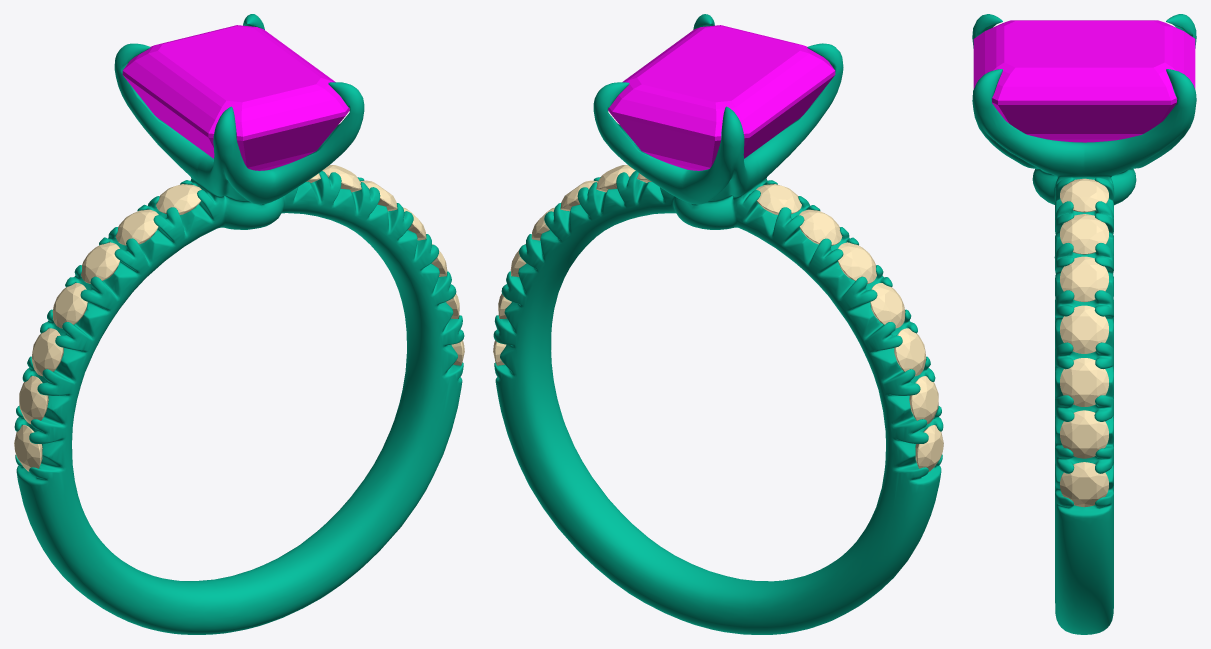
Rendered from BE1D4259_EM_200ct_RENDER.glb.
3 views of the same model, side by side, from view 1: azimuth 30°, elevation 25°; view 2: azimuth 150°, elevation 25°; view 3: azimuth 270°, elevation 25° (orthographic).
Parts seen in each view (by area): view 1: Metal 01, CS_Diamond_Emerald, Diamond_Round_Gem_SH.001, Diamond_Round_Gem_SH.006, Diamond_Round_Gem_SH.005, Diamond_Round_Gem_SH.002, Diamond_Round_Gem_SH, Diamond_Round_Gem_SH.003, Diamond_Round_Gem_SH.004; view 2: Metal 01, CS_Diamond_Emerald, Diamond_Round_Gem_SH.001, Diamond_Round_Gem_SH.006, Diamond_Round_Gem_SH.005, Diamond_Round_Gem_SH.002, Diamond_Round_Gem_SH, Diamond_Round_Gem_SH.003, Diamond_Round_Gem_SH.004; view 3: Metal 01, CS_Diamond_Emerald, Diamond_Round_Gem_SH.011, Diamond_Round_Gem_SH.007, Diamond_Round_Gem_SH.010, Diamond_Round_Gem_SH.012, Diamond_Round_Gem_SH.009, Diamond_Round_Gem_SH.008, Diamond_Round_Gem_SH.013.
Part boxes in pixels (bbox=[...]): Metal 01: bbox=[14, 14, 464, 634]; CS_Diamond_Emerald: bbox=[122, 25, 349, 170]; Diamond_Round_Gem_SH.001: bbox=[81, 242, 119, 283]; Diamond_Round_Gem_SH.006: bbox=[52, 283, 87, 328]; Diamond_Round_Gem_SH.005: bbox=[115, 209, 158, 245]; Diamond_Round_Gem_SH.002: bbox=[31, 328, 63, 376]; Diamond_Round_Gem_SH: bbox=[156, 184, 201, 214]; Diamond_Round_Gem_SH.003: bbox=[19, 376, 48, 424]; Diamond_Round_Gem_SH.004: bbox=[14, 425, 42, 471]; Metal 01: bbox=[493, 14, 943, 634]; CS_Diamond_Emerald: bbox=[608, 25, 835, 170]; Diamond_Round_Gem_SH.001: bbox=[838, 242, 876, 283]; Diamond_Round_Gem_SH.006: bbox=[870, 283, 905, 328]; Diamond_Round_Gem_SH.005: bbox=[799, 209, 842, 245]; Diamond_Round_Gem_SH.002: bbox=[894, 328, 926, 376]; Diamond_Round_Gem_SH: bbox=[756, 184, 801, 214]; Diamond_Round_Gem_SH.003: bbox=[909, 376, 938, 424]; Diamond_Round_Gem_SH.004: bbox=[915, 425, 943, 471]; Metal 01: bbox=[972, 14, 1196, 634]; CS_Diamond_Emerald: bbox=[973, 20, 1195, 142]; Diamond_Round_Gem_SH.011: bbox=[1060, 358, 1108, 406]; Diamond_Round_Gem_SH.007: bbox=[1060, 305, 1108, 353]; Diamond_Round_Gem_SH.010: bbox=[1060, 410, 1108, 458]; Diamond_Round_Gem_SH.012: bbox=[1060, 256, 1108, 302]; Diamond_Round_Gem_SH.009: bbox=[1060, 462, 1108, 507]; Diamond_Round_Gem_SH.008: bbox=[1060, 214, 1108, 254]; Diamond_Round_Gem_SH.013: bbox=[1060, 178, 1108, 212].
Bounding box in the file's own units: 20.69 × 25.42 × 9.11.
